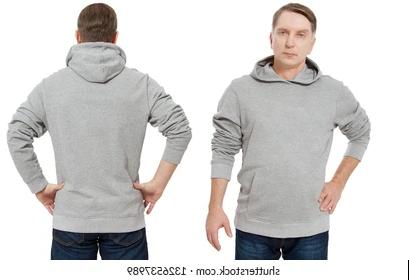sweater: (5, 41, 193, 234), (210, 55, 372, 240)
trousers: (49, 226, 149, 263), (233, 228, 332, 263)
